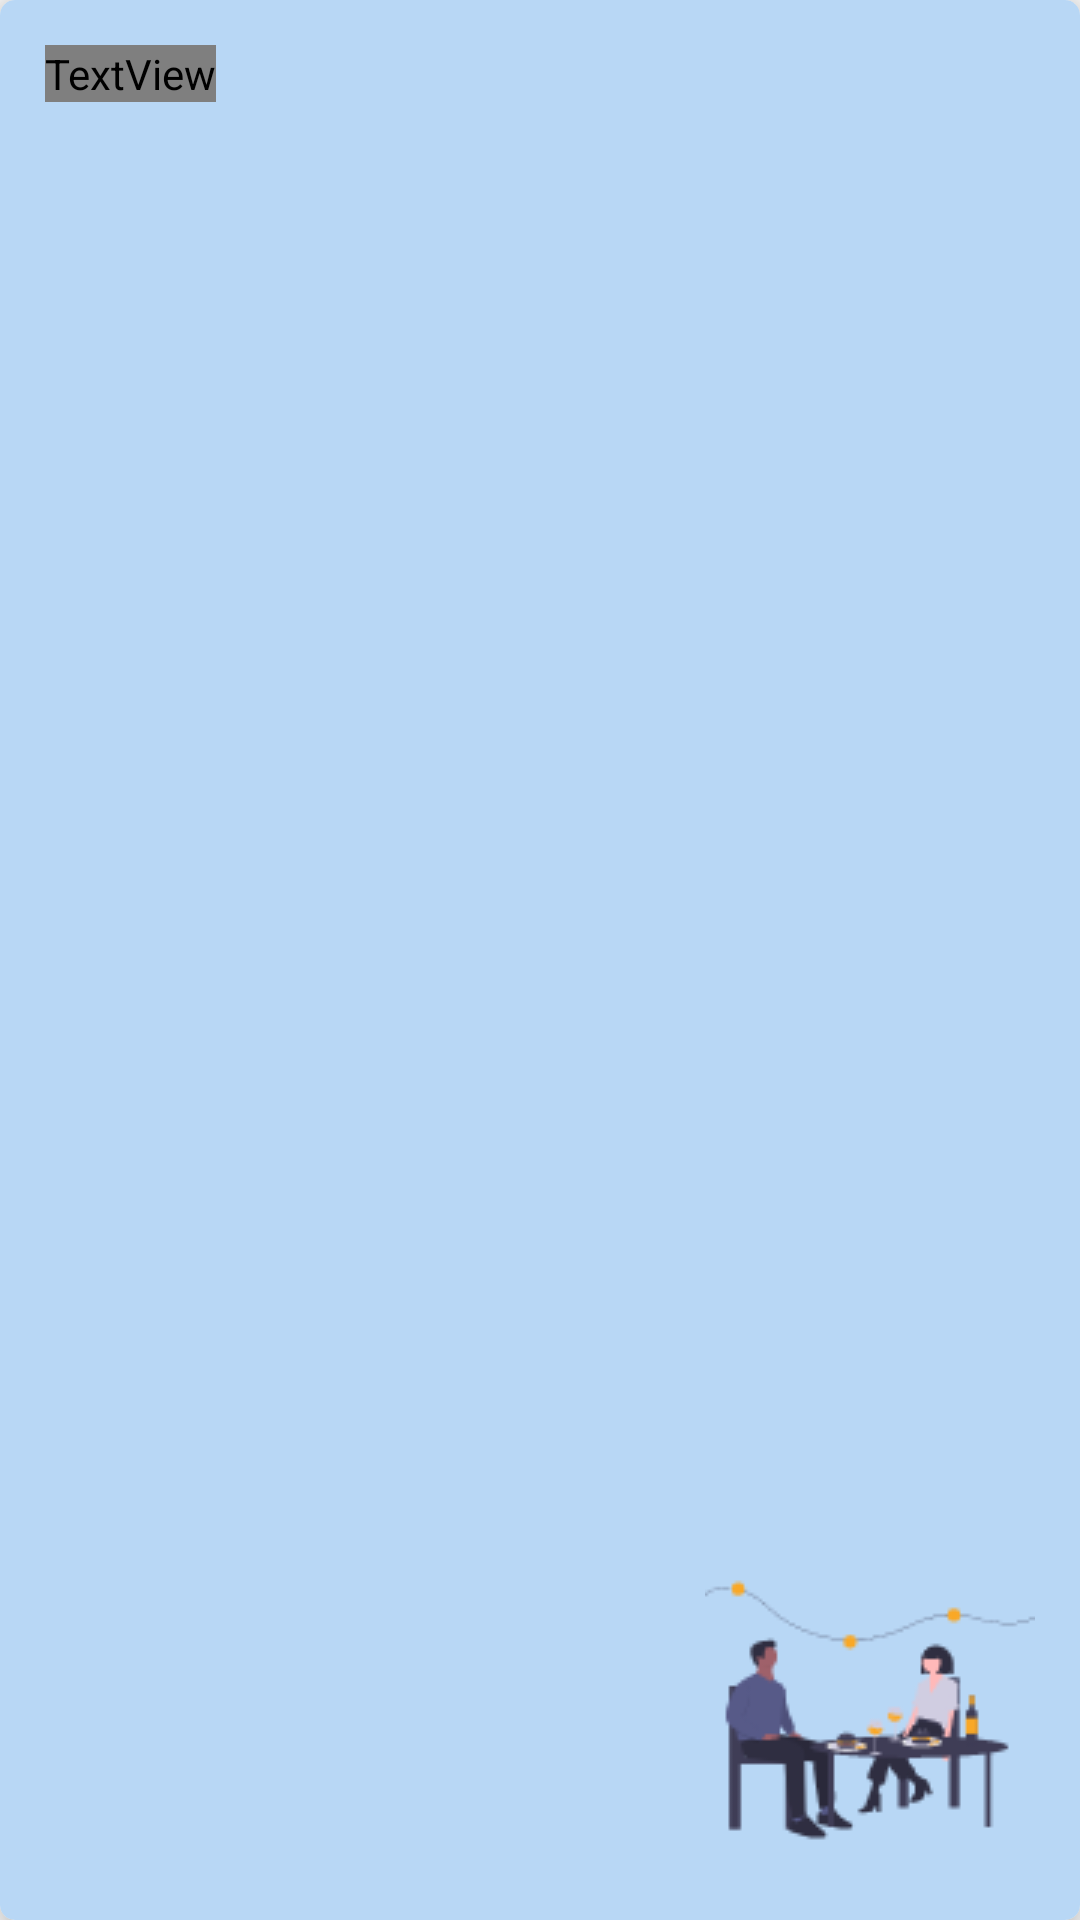

Where icons sit on this 1080w x 1920h app screen, as [x1, y1, x2, y2]:
restaurant: [705, 1580, 1035, 1840]
